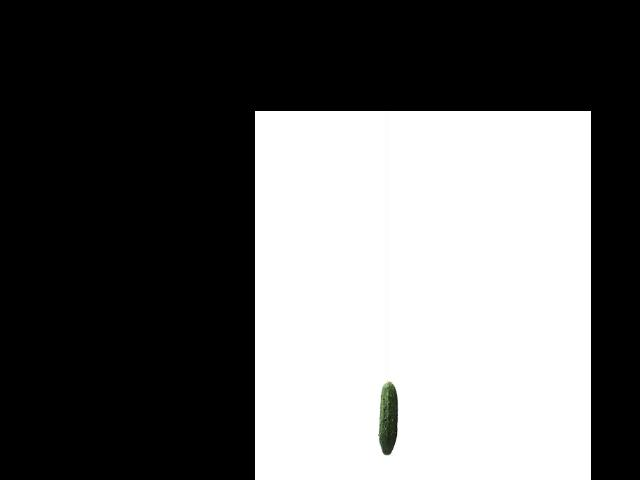cucumber: (379, 381, 397, 455)
